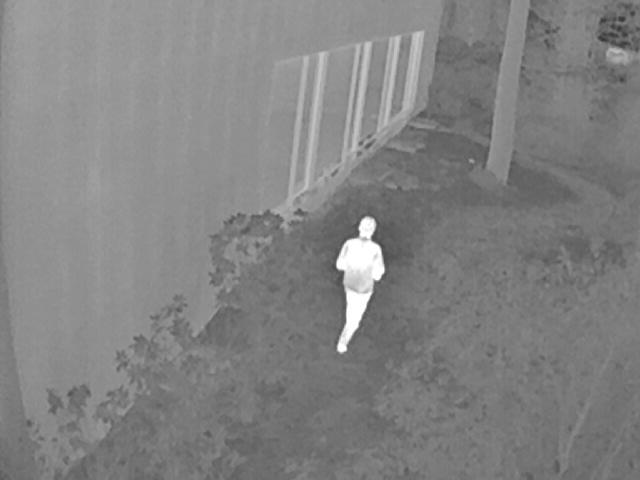person: (337, 215, 388, 356)
